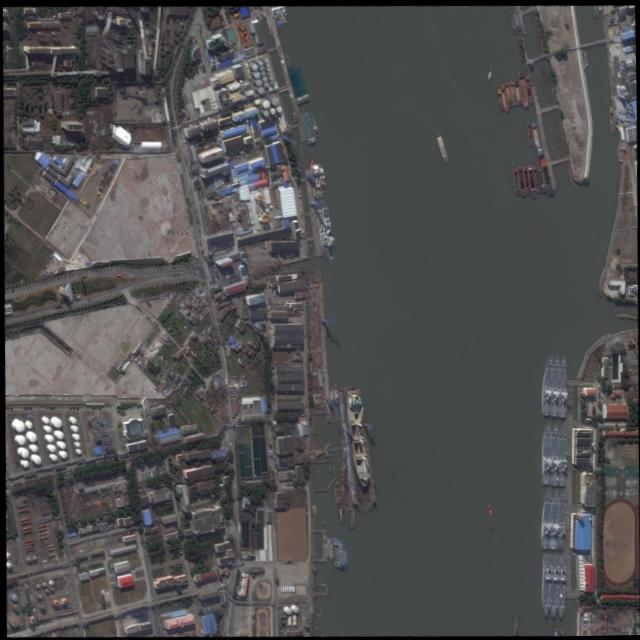ship: (344, 388, 369, 486), (538, 487, 552, 547), (320, 206, 334, 265), (539, 353, 552, 414), (547, 486, 558, 548), (539, 421, 550, 483), (314, 209, 327, 259), (556, 353, 566, 416), (548, 422, 558, 484), (555, 487, 565, 548), (549, 354, 559, 415), (286, 66, 302, 104), (307, 157, 322, 197), (292, 65, 308, 101), (540, 554, 549, 617), (555, 554, 564, 617), (298, 110, 315, 143), (557, 423, 566, 485), (538, 156, 552, 195), (548, 553, 556, 617), (516, 68, 528, 108), (434, 132, 448, 163), (525, 161, 536, 198), (529, 114, 540, 147), (535, 161, 545, 193), (530, 162, 540, 193), (307, 109, 318, 136), (516, 163, 525, 195), (498, 81, 507, 111), (506, 10, 517, 34), (523, 73, 532, 102), (512, 76, 521, 105), (316, 162, 325, 190), (275, 5, 287, 26), (524, 119, 533, 146), (507, 78, 516, 105), (502, 79, 511, 106), (521, 164, 529, 193), (511, 165, 519, 194), (270, 5, 280, 28), (485, 502, 493, 529), (607, 104, 614, 133), (511, 8, 520, 30), (280, 46, 289, 68), (332, 536, 338, 566), (495, 86, 502, 111), (331, 383, 338, 405), (337, 539, 342, 569), (348, 504, 354, 527), (328, 536, 333, 560), (341, 545, 346, 568), (512, 612, 517, 634), (328, 385, 333, 403), (582, 49, 587, 65), (337, 507, 342, 522), (333, 487, 337, 503), (338, 487, 342, 501), (325, 537, 328, 555), (591, 4, 595, 17), (594, 4, 598, 16), (486, 70, 491, 79), (336, 487, 339, 501)
storage-tank: (14, 420, 23, 431), (52, 417, 61, 427), (16, 433, 24, 443), (28, 432, 36, 441), (9, 617, 17, 626), (270, 95, 278, 104), (55, 430, 63, 438), (261, 99, 269, 107), (20, 448, 27, 457), (48, 444, 55, 452), (33, 455, 40, 463), (30, 443, 37, 451), (10, 592, 17, 600), (257, 85, 264, 93), (21, 459, 28, 466), (59, 450, 66, 457), (254, 78, 261, 85), (284, 606, 291, 613), (253, 70, 259, 78), (251, 62, 257, 70), (263, 108, 269, 116), (46, 434, 52, 441), (42, 416, 48, 423), (25, 420, 31, 427), (13, 603, 19, 610), (38, 602, 44, 609), (58, 441, 64, 448), (73, 432, 79, 439), (44, 425, 50, 431), (275, 105, 281, 111), (292, 605, 297, 612), (74, 440, 79, 447), (70, 416, 75, 423), (51, 454, 56, 460), (61, 597, 66, 603), (52, 600, 57, 606), (31, 554, 36, 560), (263, 80, 268, 86), (261, 75, 266, 81), (269, 107, 274, 113), (72, 425, 77, 431), (258, 64, 263, 69), (25, 555, 29, 561), (260, 69, 264, 75), (48, 579, 52, 584), (35, 582, 39, 587), (41, 581, 45, 586), (38, 593, 42, 598), (269, 79, 273, 84), (267, 70, 271, 75), (263, 57, 268, 61), (76, 448, 80, 453), (5, 552, 8, 558), (5, 560, 8, 566), (43, 587, 47, 591), (268, 75, 272, 79), (264, 62, 268, 66), (258, 60, 262, 64), (266, 66, 269, 70), (238, 78, 241, 82)
